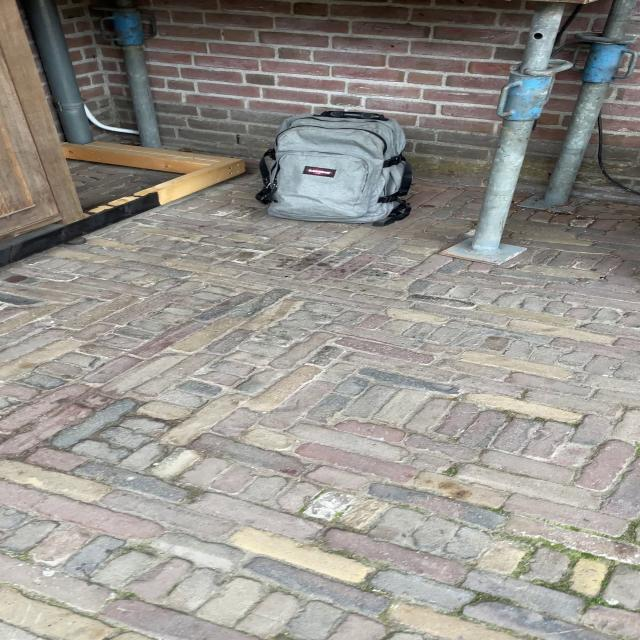backpack: (249, 105, 421, 228)
